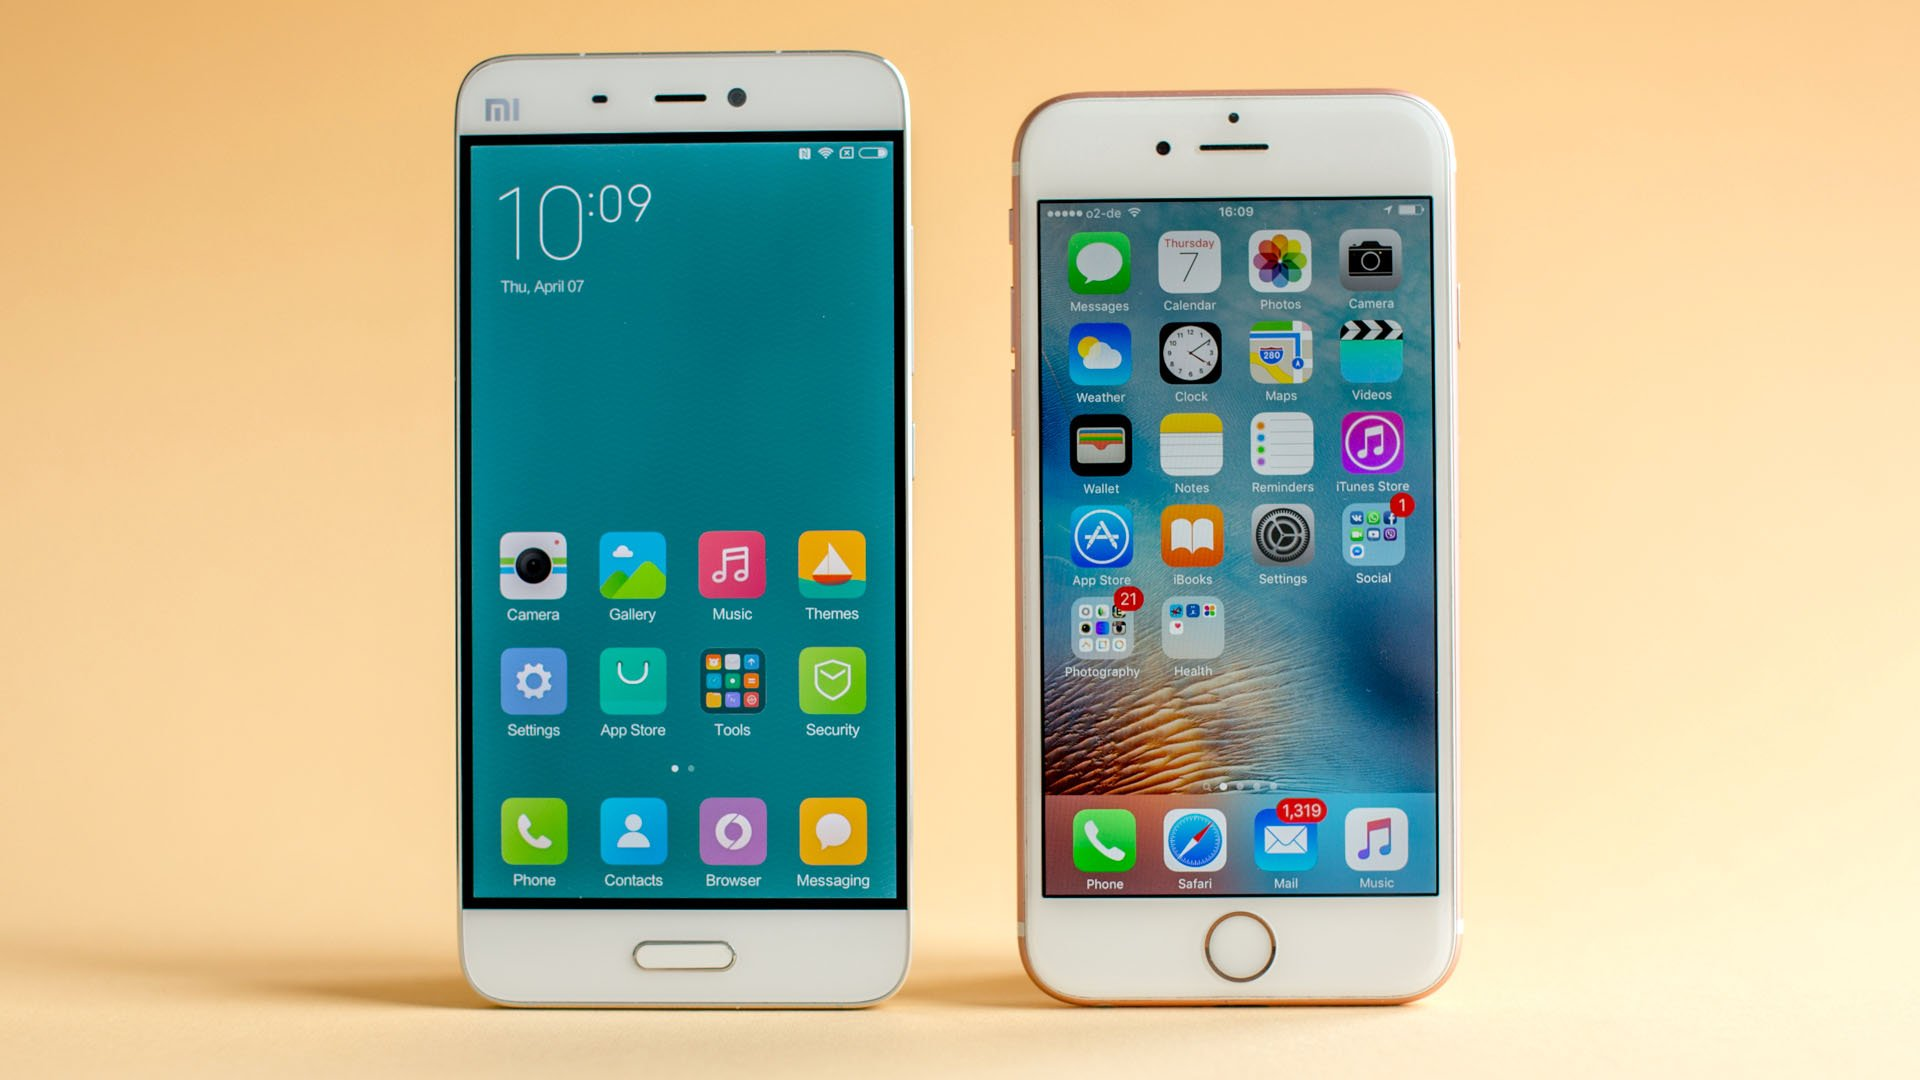smartphone: (452, 46, 914, 1010), (1007, 87, 1462, 1010)
